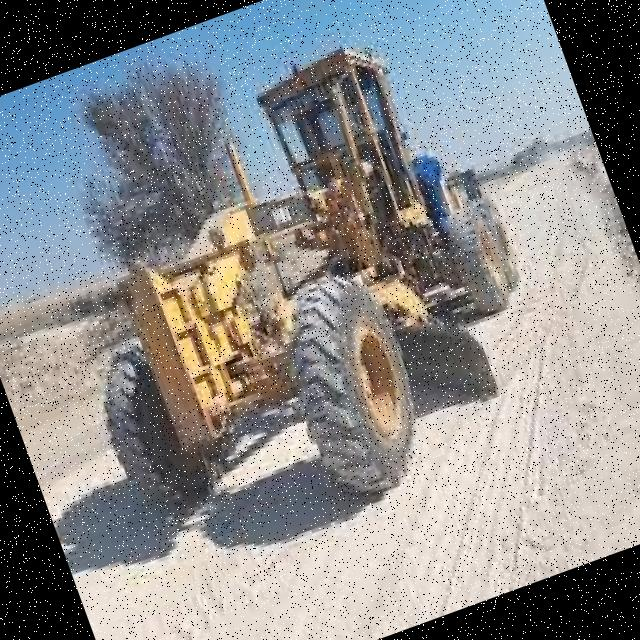Grader: (0, 0, 631, 579)
